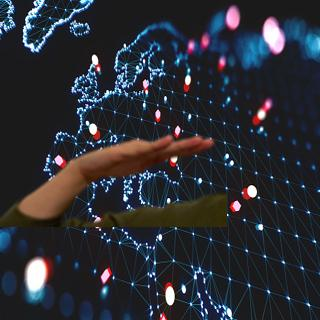WAIT: (75, 132, 218, 183)
